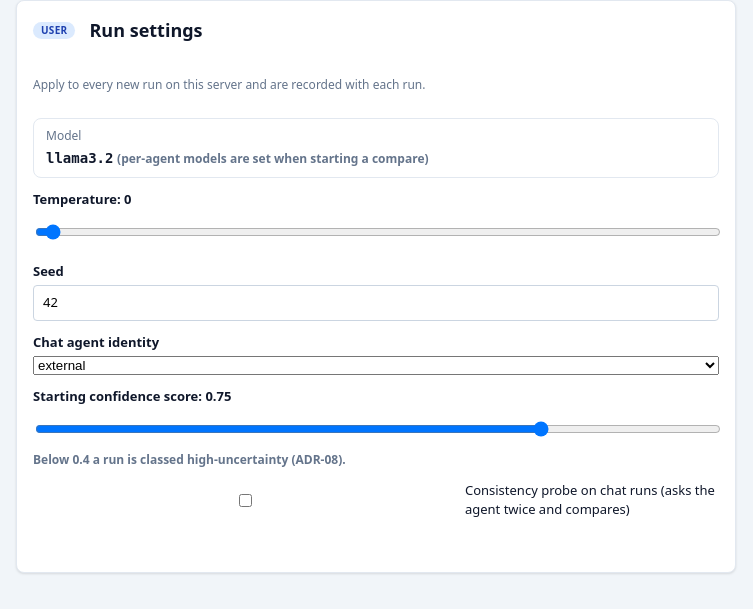
Scenario: Settings › shows the server's settings and saves a change
Replace the text in the number field labelled "Seed" with "7": point(376, 303) [33,285,719,320]
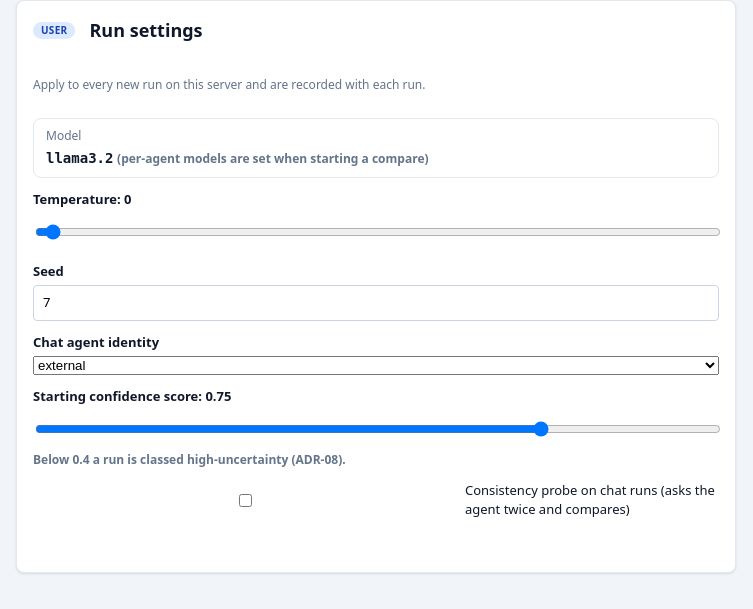
Leave the number field labelled "Seed", box [33,285,719,320]
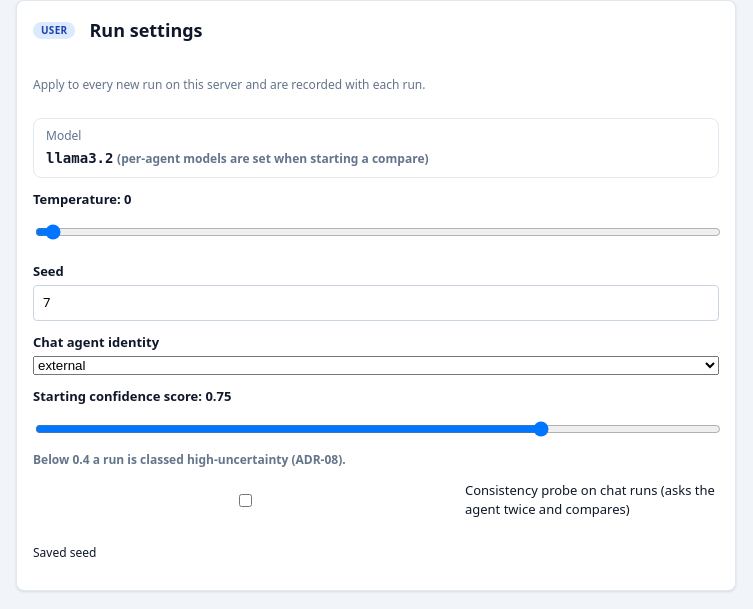
Now the text "Saved seed" is shown, box [33,544,96,560]
